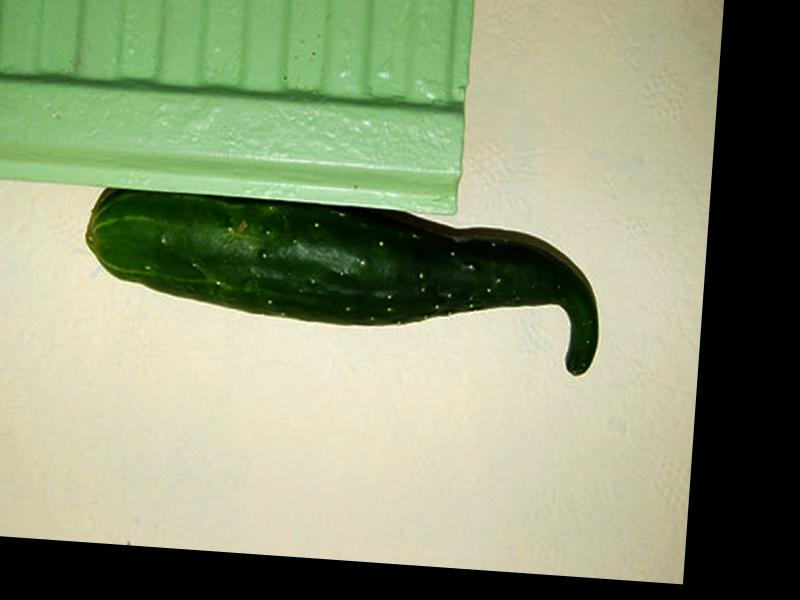Cucumber: (79, 186, 607, 375)
